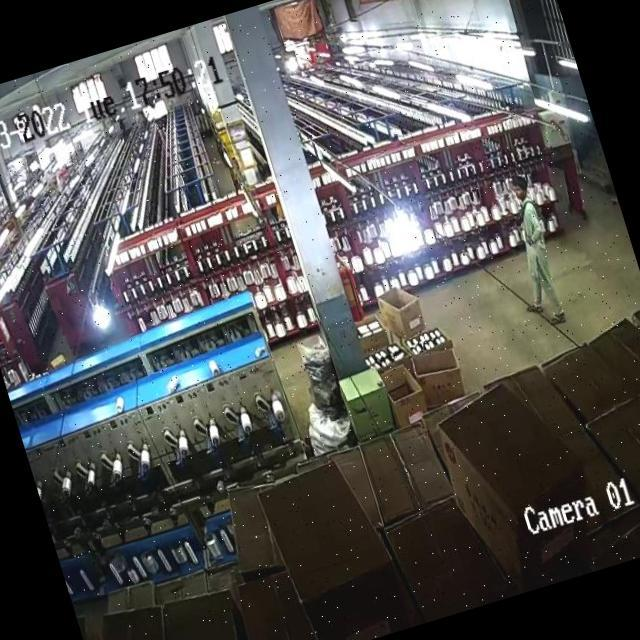person: (502, 174, 573, 329)
